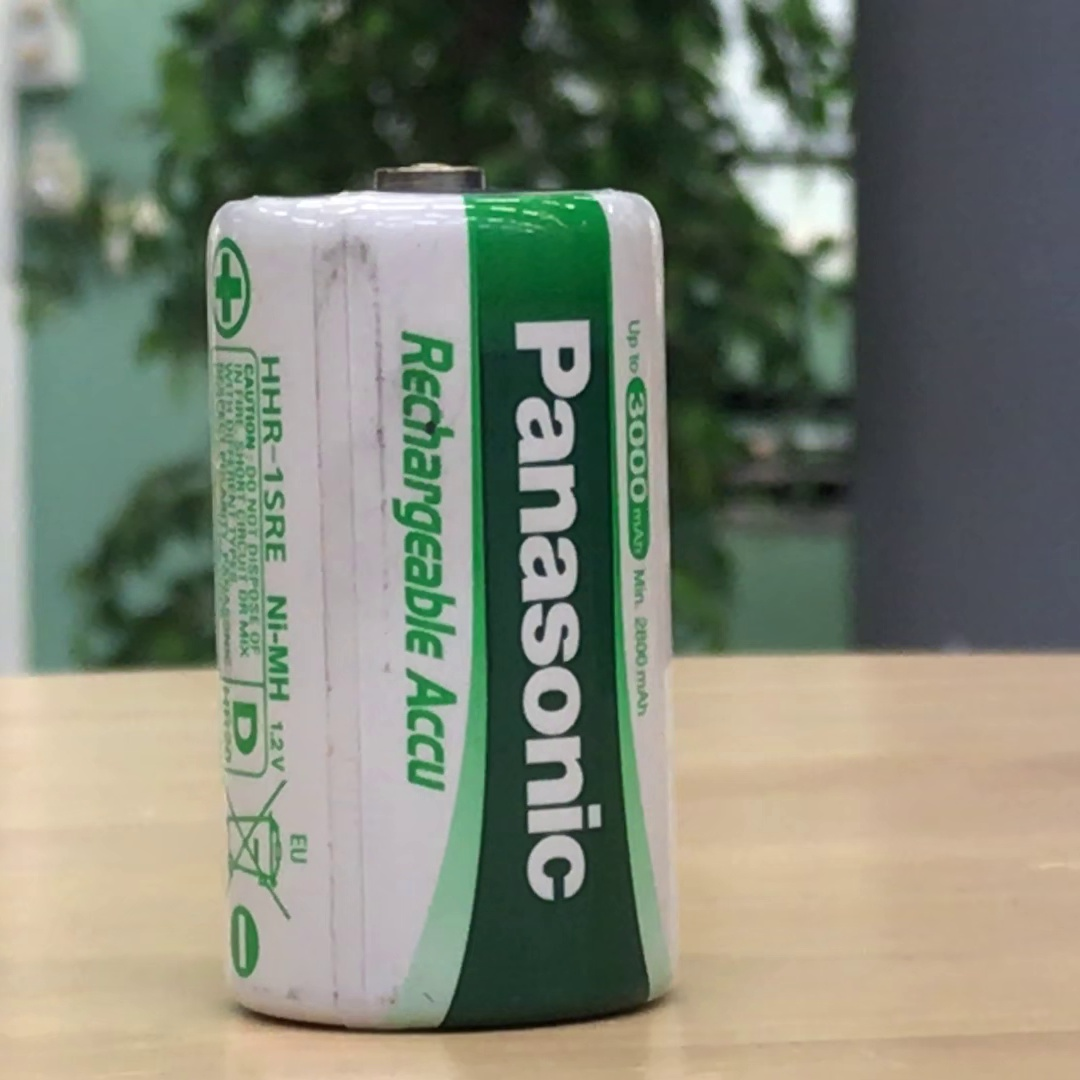keyword: (244, 587, 299, 710)
